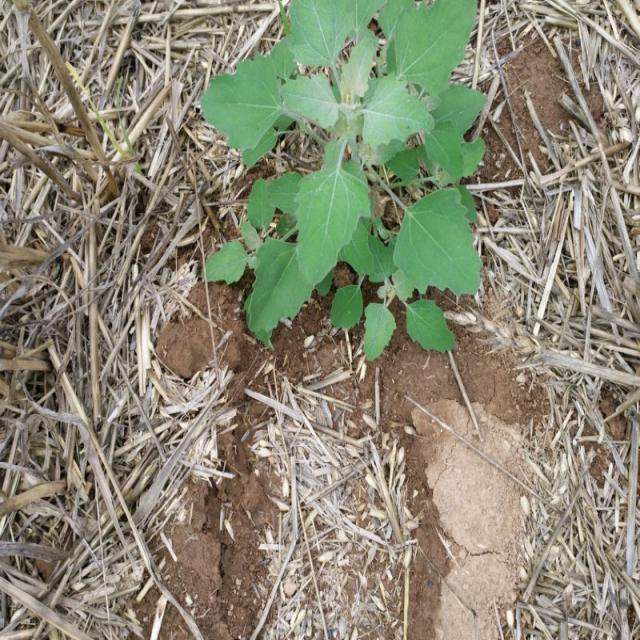ca: (204, 0, 491, 363)
